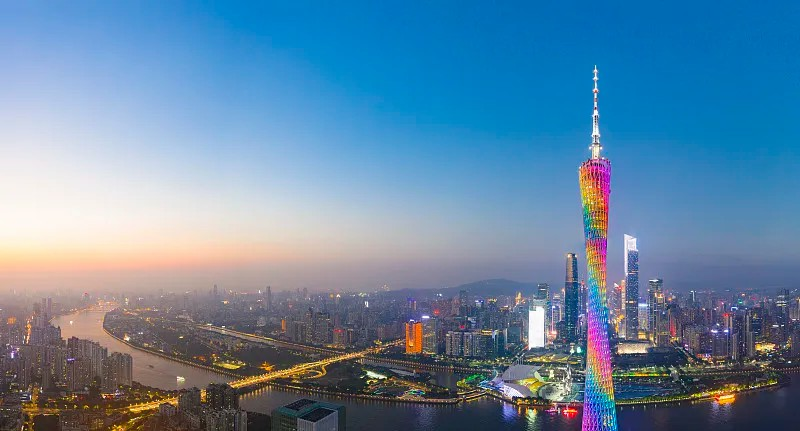Canton: (577, 65, 619, 430)
